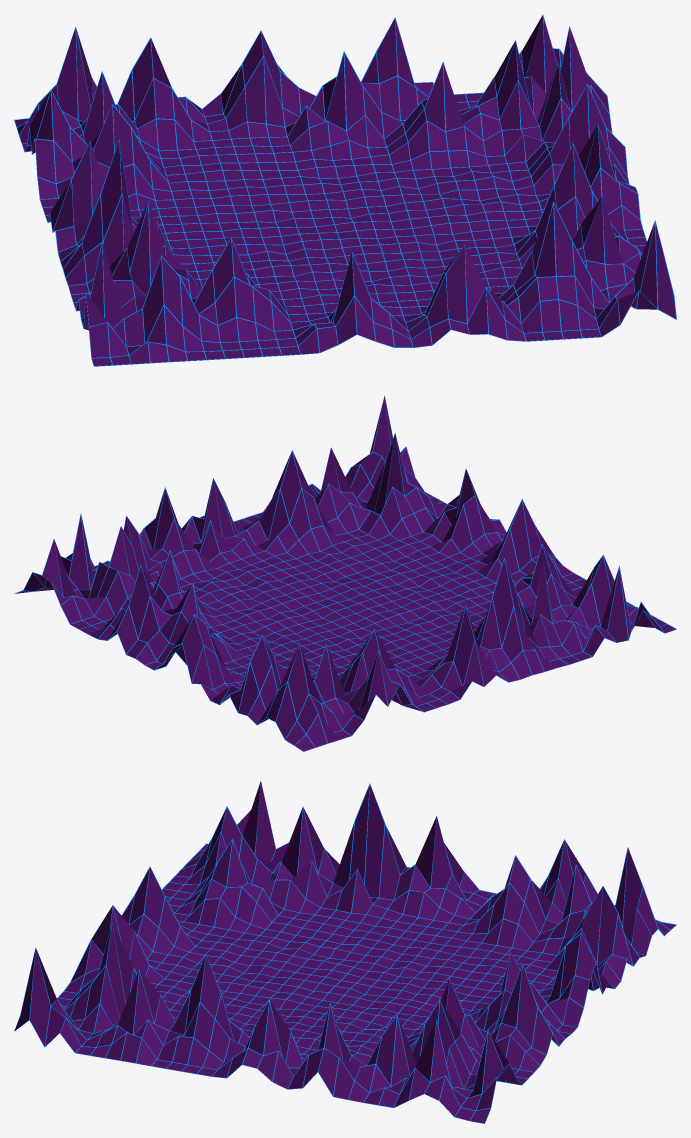
The model's file is planet-earth.glb.
3 views of the same model, one above another, from view 1: azimuth 30°, elevation 25°; view 2: azimuth 150°, elevation 25°; view 3: azimuth 270°, elevation 25° (orthographic). The views are drawn at different scales.
Visible parts, largest first — view 1: Plane; view 2: Plane; view 3: Plane.
Part boxes in pixels (box(x1,y1,x2,y2)): Plane: box(14, 15, 676, 366); Plane: box(14, 395, 676, 751); Plane: box(14, 780, 676, 1123).
Bounding box in the file's own units: 15.65 × 3.01 × 15.66.
